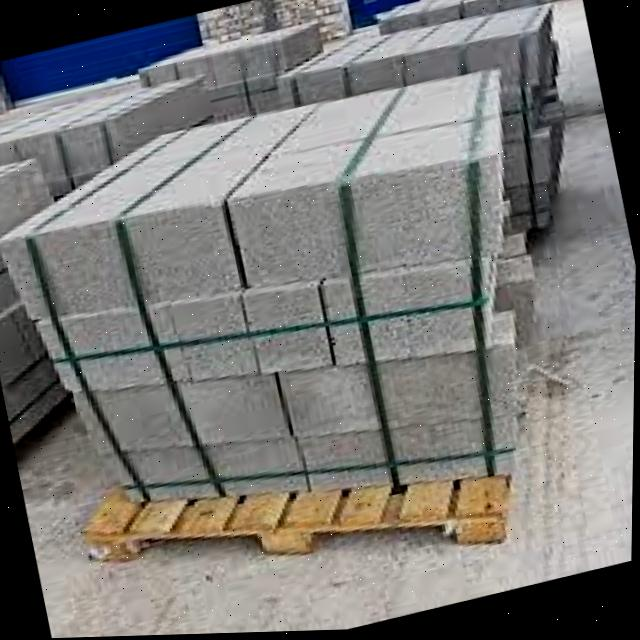bricks: (3, 72, 512, 494)
